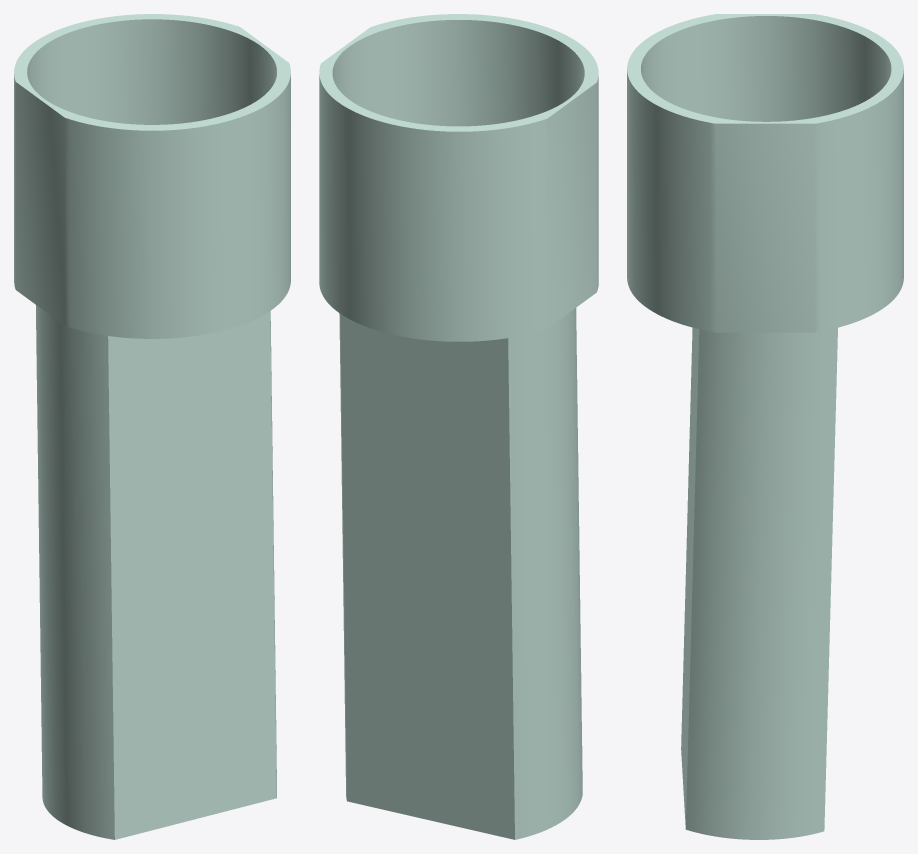
3 renders of one model, left to right at view 1: azimuth 30°, elevation 25°; view 2: azimuth 150°, elevation 25°; view 3: azimuth 270°, elevation 25°, orthographic.
Visible parts, largest first — view 1: Renderer Node; view 2: Renderer Node; view 3: Renderer Node.
Part boxes in pixels (x1,y1,x2,y2): Renderer Node: [14, 14, 290, 839]; Renderer Node: [319, 14, 598, 839]; Renderer Node: [627, 14, 903, 839].
Bounding box in the file's own units: 0.3438 × 1.05 × 0.366.
